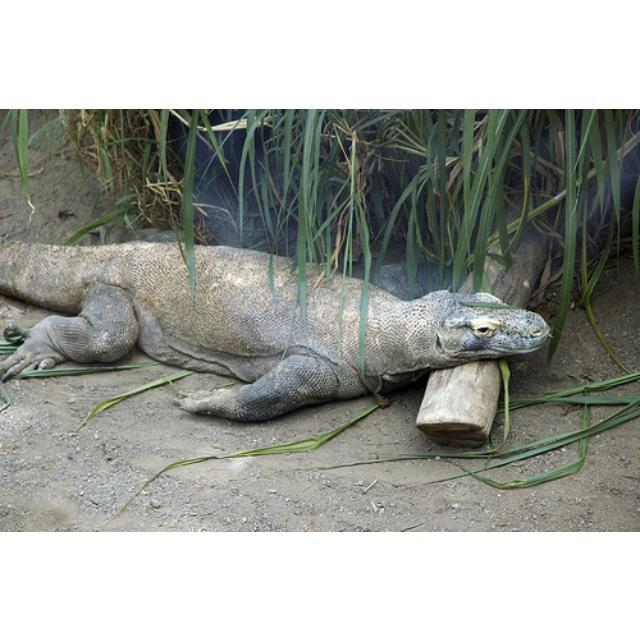KomodoDragon: (1, 235, 552, 421)
